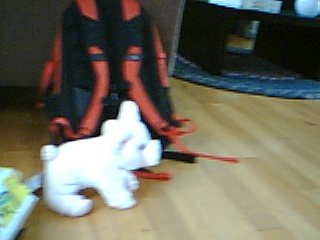piggy: (39, 100, 164, 219)
